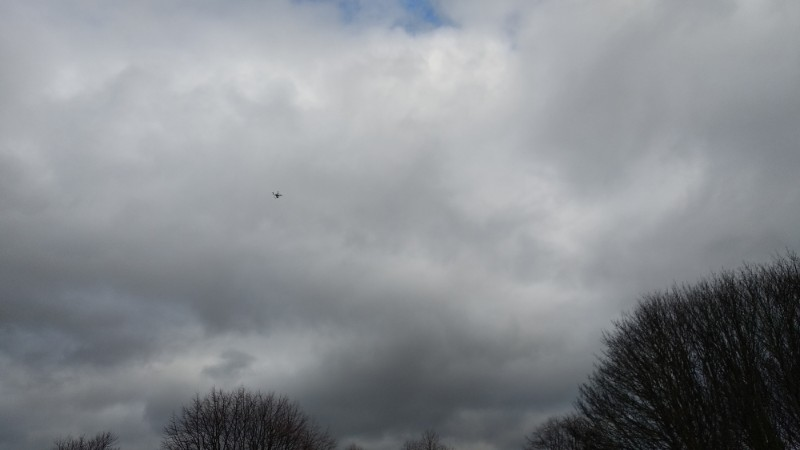drone: (271, 190, 282, 198)
